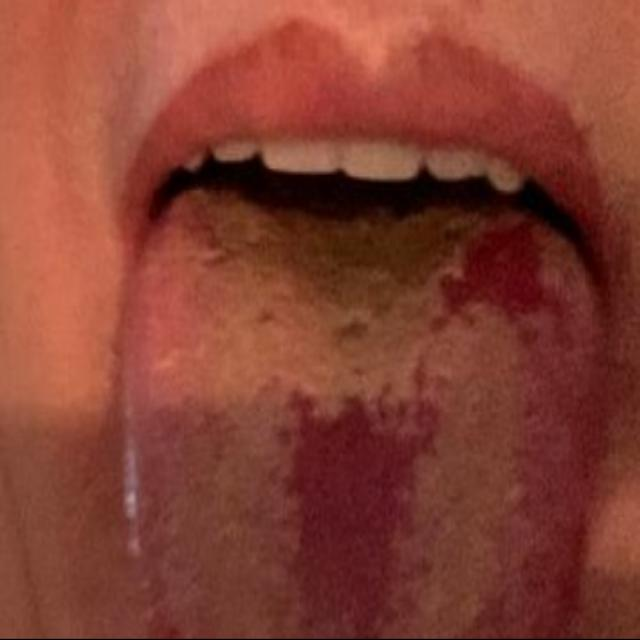baitaishe: (116, 187, 599, 640)
botaishe: (269, 377, 443, 640), (424, 214, 584, 345)
hongshe: (116, 187, 599, 640)
